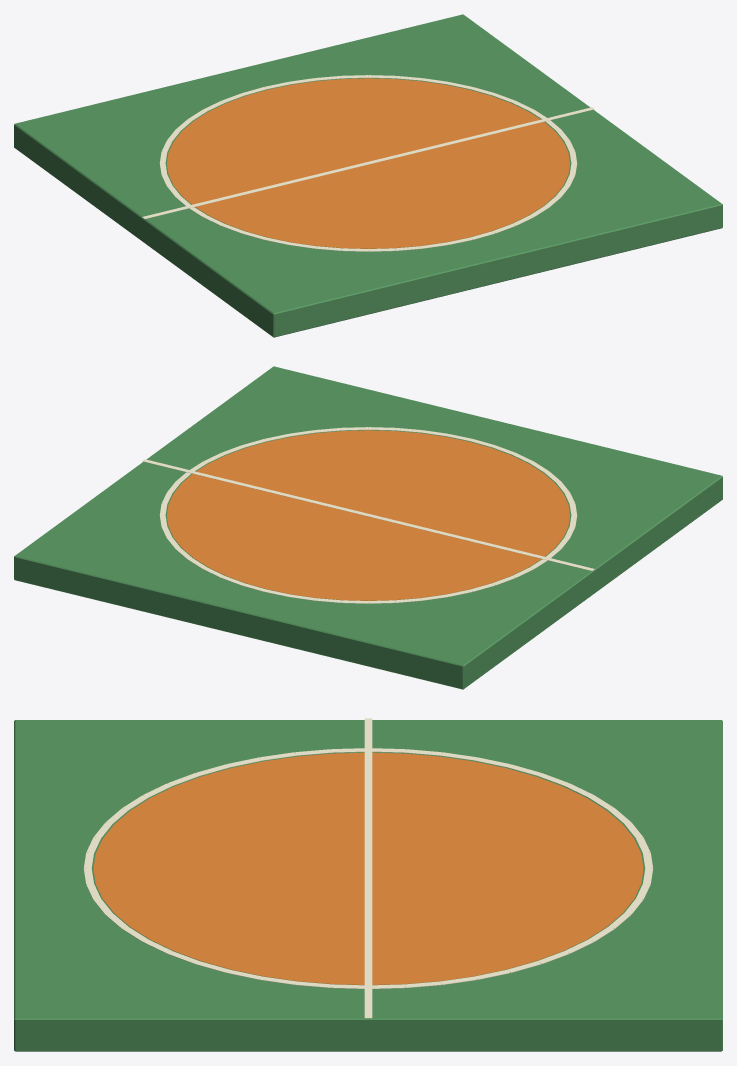
The model's file is floor_court_center.glb.
The picture shows the model from 3 angles, top to bottom: view 1: azimuth 30°, elevation 25°; view 2: azimuth 150°, elevation 25°; view 3: azimuth 270°, elevation 25°; orthographic projection. The views are drawn at different scales.
Visible parts, largest first — view 1: Quadra.002, Círculo laranja, Contorno; view 2: Quadra.002, Círculo laranja, Contorno; view 3: Quadra.002, Círculo laranja, Contorno.
Part boxes in pixels (x1,y1,x2,y2): Quadra.002: (14, 14, 722, 337); Círculo laranja: (166, 78, 570, 248); Contorno: (142, 75, 594, 251); Quadra.002: (14, 366, 722, 689); Círculo laranja: (166, 430, 570, 600); Contorno: (142, 427, 594, 603); Quadra.002: (14, 720, 722, 1051); Círculo laranja: (93, 752, 643, 985); Contorno: (83, 718, 653, 1018).
Bounding box in the file's own units: 2.5 × 0.1336 × 2.5.
